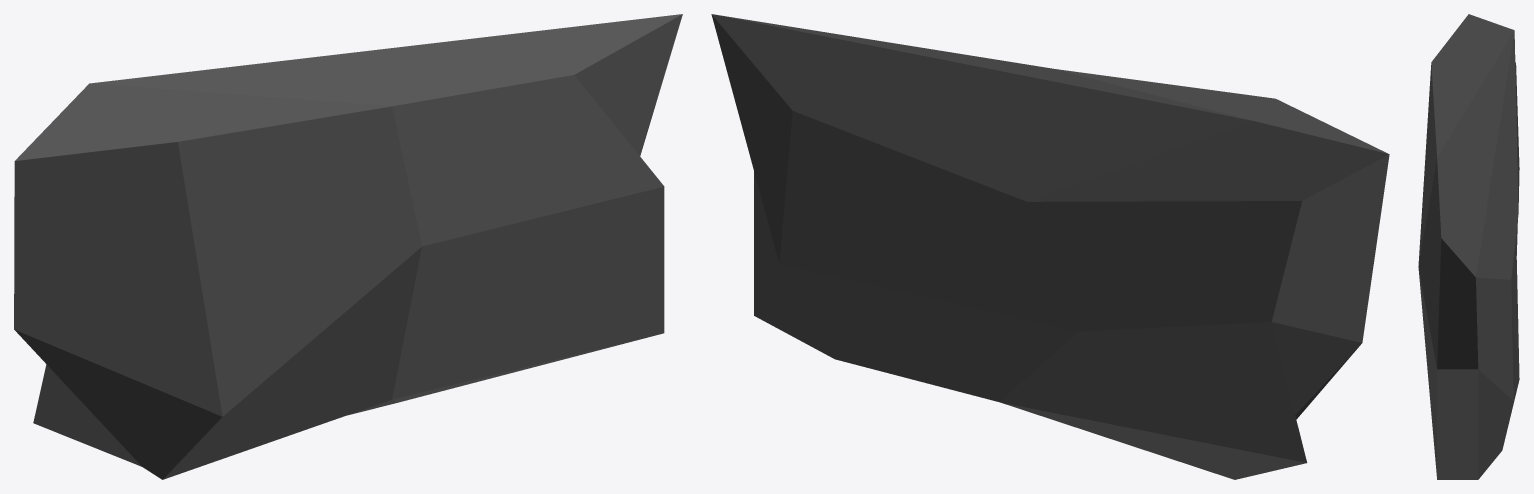
File: Roca2.fbx
The picture shows the model from 3 angles, left to right: view 1: azimuth 30°, elevation 25°; view 2: azimuth 150°, elevation 25°; view 3: azimuth 270°, elevation 25°; orthographic projection. The views are drawn at different scales.
Visible parts, largest first — view 1: Roca 2; view 2: Roca 2; view 3: Roca 2.
Boxes of the visible parts, x1,y1,x2,y2 form: Roca 2: [14, 14, 682, 479]; Roca 2: [711, 14, 1389, 479]; Roca 2: [1418, 14, 1519, 479].
Bounding box in the file's own units: 556 × 300 × 95.77.
1 material, 1 textured.
